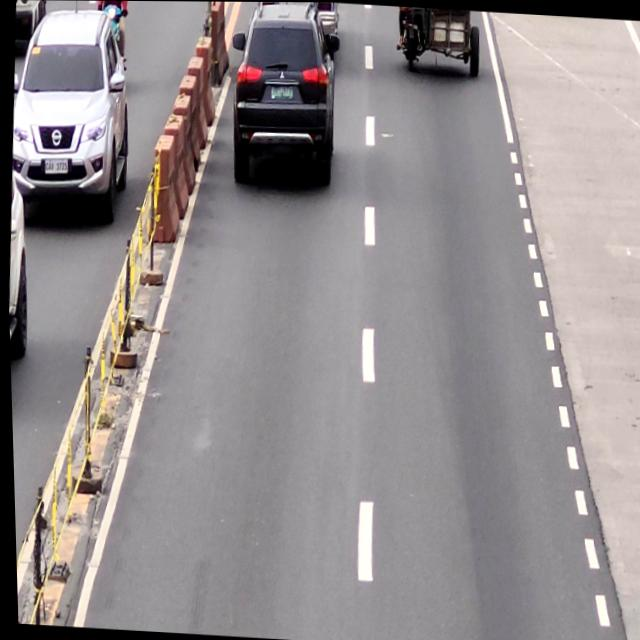Car: (223, 1, 345, 194)
License-Plate: (269, 83, 293, 99)
Tricycle: (397, 6, 483, 76)
